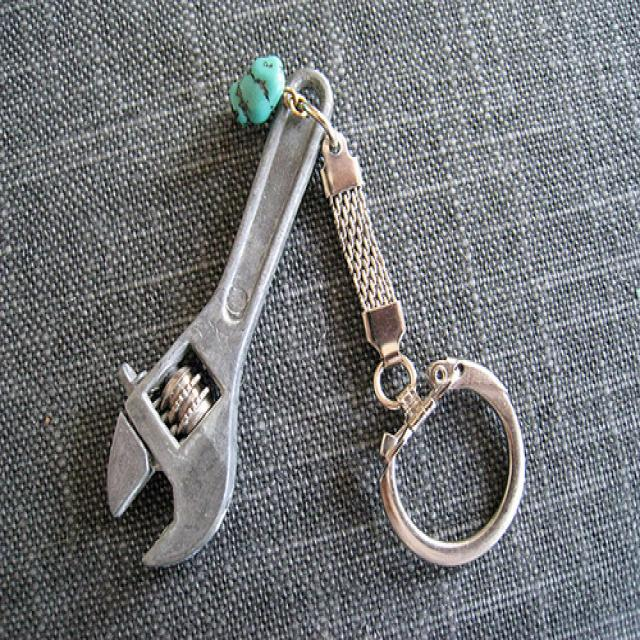wrench: (48, 71, 266, 583)
